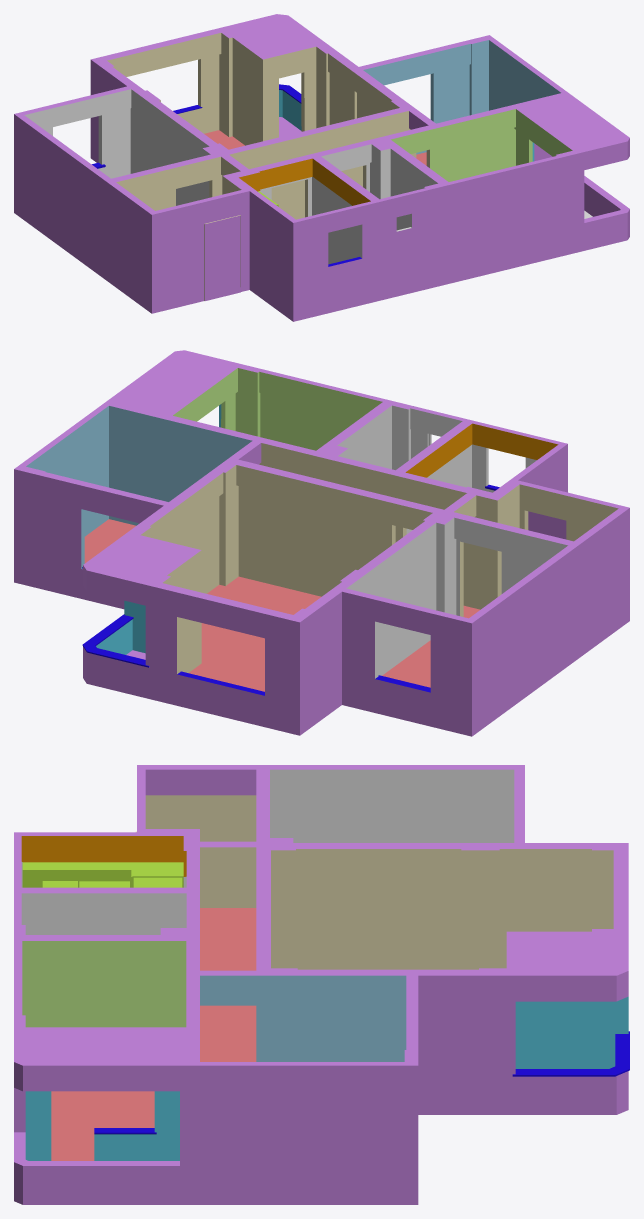
Rendered from version.fbx.
3 renders of one model, top to bottom at view 1: azimuth 30°, elevation 25°; view 2: azimuth 150°, elevation 25°; view 3: azimuth 270°, elevation 25°, orthographic. The views are drawn at different scales.
Visible parts, largest first — view 1: YenisehirHome; view 2: YenisehirHome; view 3: YenisehirHome.
Boxes of the visible parts, x1,y1,x2,y2 form: YenisehirHome: (14, 14, 629, 321); YenisehirHome: (14, 350, 629, 736); YenisehirHome: (14, 765, 629, 1204).
Bounding box in the file's own units: 12040 × 2602 × 10425.
